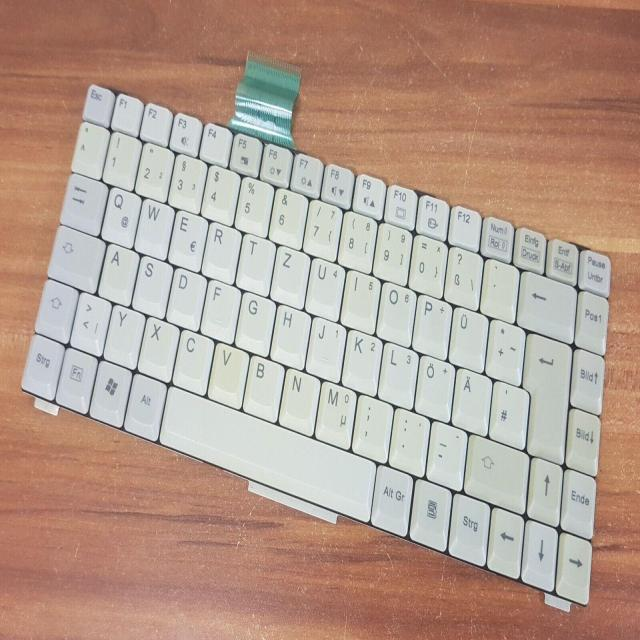0: (408, 232, 447, 294)
1: (102, 130, 141, 186)
2: (134, 141, 173, 198)
3: (167, 151, 206, 208)
4: (200, 162, 240, 220)
5: (234, 174, 273, 232)
6: (268, 185, 308, 245)
7: (303, 196, 342, 257)
8: (336, 208, 377, 269)
9: (372, 220, 412, 281)
a: (98, 242, 138, 302)
accent: (480, 256, 518, 318)
ae: (451, 367, 491, 431)
alt-left: (123, 372, 166, 439)
altgr-right: (371, 462, 414, 534)
b: (242, 353, 285, 419)
c: (172, 328, 214, 390)
caret: (70, 119, 109, 175)
comma: (351, 392, 393, 459)
d: (165, 266, 206, 326)
del: (517, 269, 576, 339)
e: (167, 208, 208, 267)
enter: (522, 332, 572, 466)
f: (200, 278, 240, 339)
g: (234, 290, 275, 351)
h: (270, 304, 310, 364)
hash: (488, 380, 529, 446)
i: (340, 267, 381, 328)
j: (305, 315, 346, 379)
k: (342, 329, 383, 391)
keyboard: (18, 76, 622, 618)
l: (377, 340, 418, 405)
less: (70, 290, 111, 353)
m: (314, 379, 356, 447)
minus: (426, 419, 467, 486)
n: (278, 366, 320, 432)
o: (375, 280, 416, 342)
oe: (414, 354, 455, 418)
p: (411, 293, 452, 355)
plus: (484, 317, 525, 381)
point: (389, 406, 430, 472)
q: (100, 185, 140, 244)
r: (201, 221, 241, 278)
s: (131, 253, 171, 314)
shift-left: (34, 278, 77, 341)
shift-lock: (46, 223, 105, 290)
shift-right: (463, 434, 528, 507)
space: (159, 386, 374, 519)
ss: (443, 244, 482, 306)
strg-left: (20, 332, 64, 399)
strg-right: (448, 491, 490, 564)
t: (235, 232, 275, 291)
tab: (59, 170, 107, 232)
u: (304, 256, 345, 316)
ue: (447, 305, 487, 368)
v: (207, 341, 249, 405)
w: (134, 196, 173, 256)
x: (137, 315, 179, 378)
y: (104, 303, 145, 366)
z: (269, 244, 310, 304)
